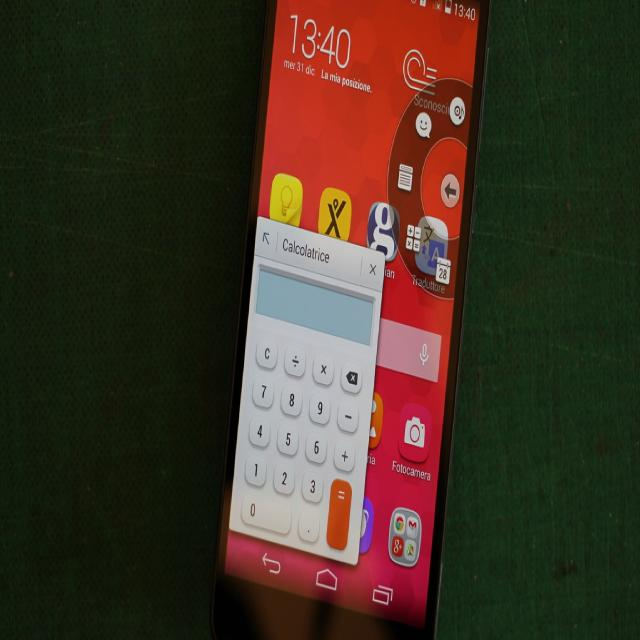Calculator: (229, 215, 387, 565)
